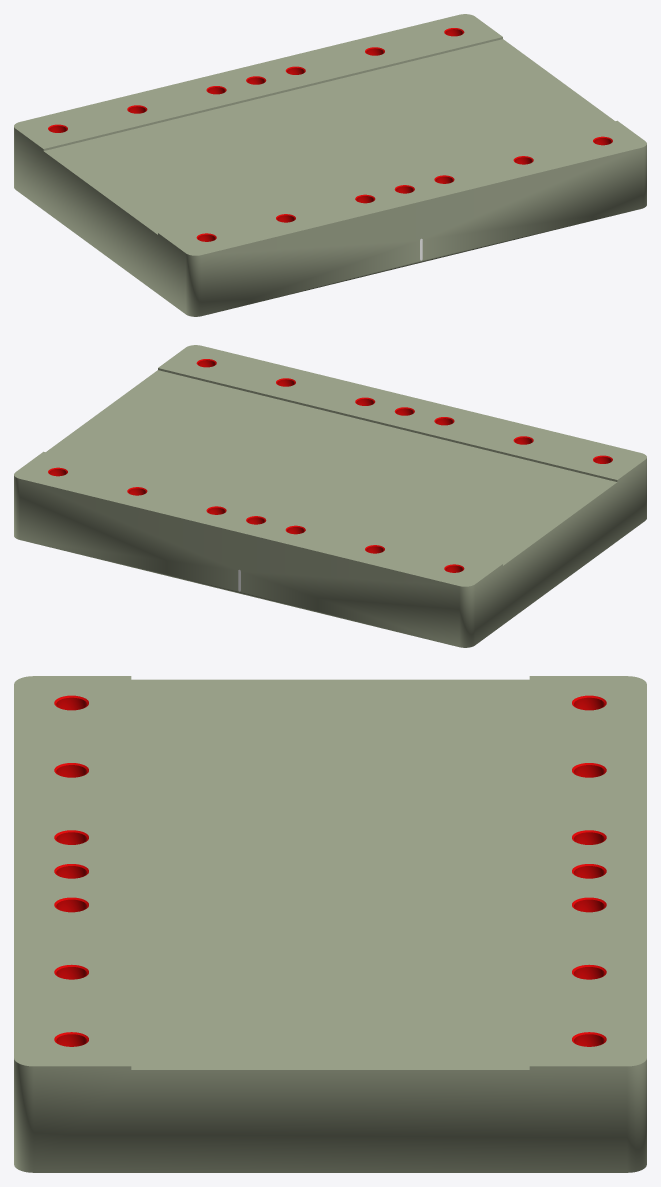
The picture shows the model from 3 angles, top to bottom: view 1: azimuth 30°, elevation 25°; view 2: azimuth 150°, elevation 25°; view 3: azimuth 270°, elevation 25°; orthographic projection. The views are drawn at different scales.
Parts seen in each view (by area): view 1: node0; view 2: node0; view 3: node0.
Part boxes in pixels (x1,y1,x2,y2): node0: (14,14,646,316); node0: (14,345,646,647); node0: (14,676,646,1172).
Size of the model in its own units: 0.2946 by 0.2019 by 0.0375.
